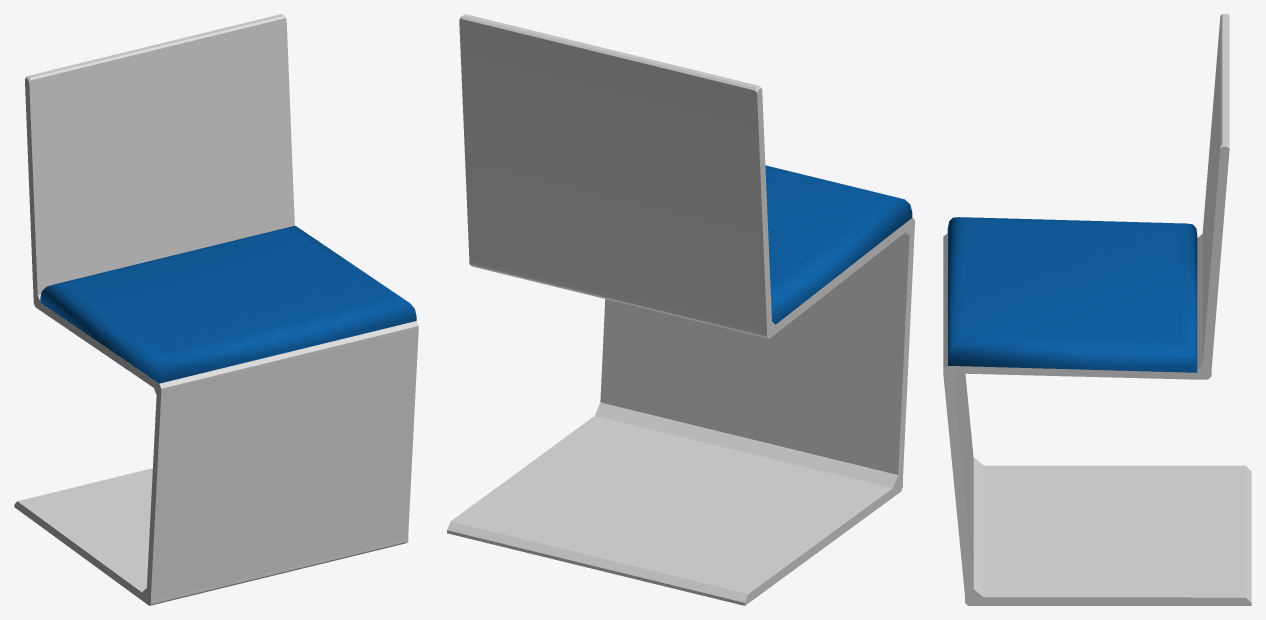
Rendered from ChairOffice.FBX.
3 renders of one model, left to right at view 1: azimuth 30°, elevation 25°; view 2: azimuth 150°, elevation 25°; view 3: azimuth 270°, elevation 25°, orthographic. The views are drawn at different scales.
Parts seen in each view (by area): view 1: ChairPillow; view 2: ChairPillow; view 3: ChairPillow.
Part boxes in pixels (box(x1,y1,x2,y2)): ChairPillow: box(14, 14, 418, 605); ChairPillow: box(447, 14, 914, 605); ChairPillow: box(943, 14, 1251, 605).
Size of the model in its own units: 50.01 by 49.44 by 81.49.
